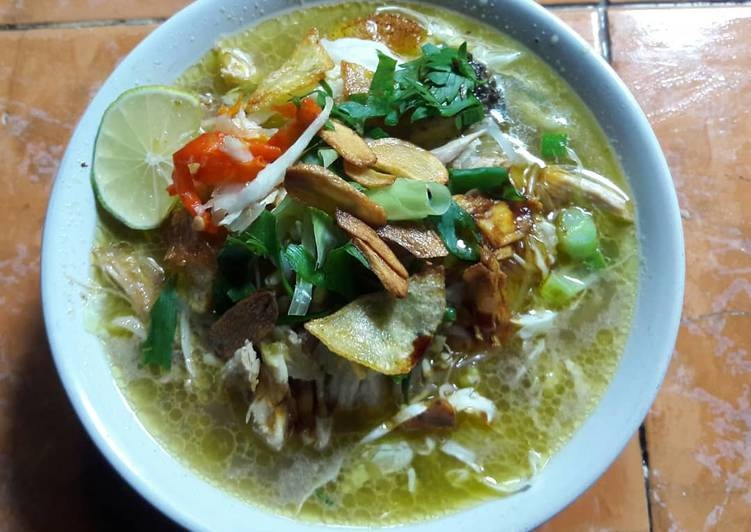soto: (98, 14, 677, 503)
